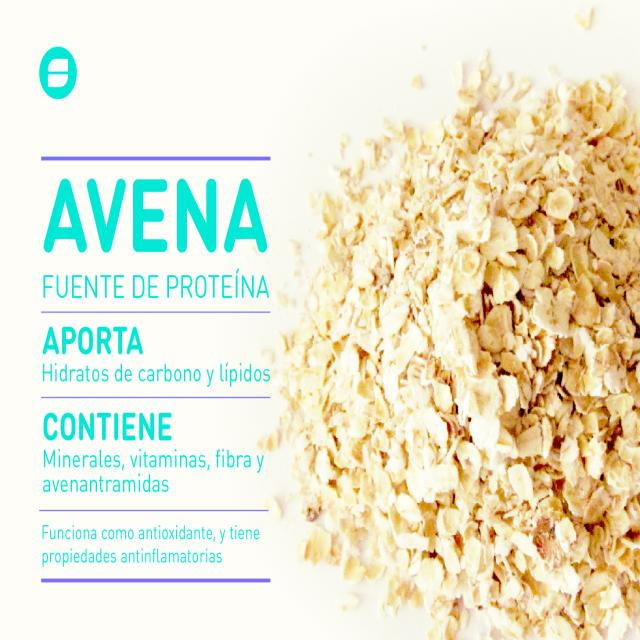avena: (300, 63, 640, 638)
